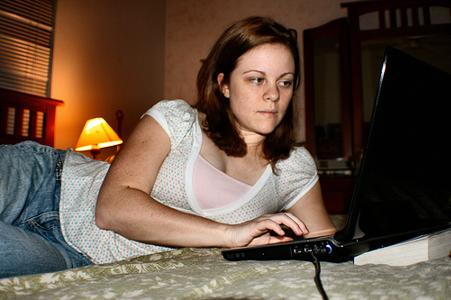person: (1, 16, 341, 280)
